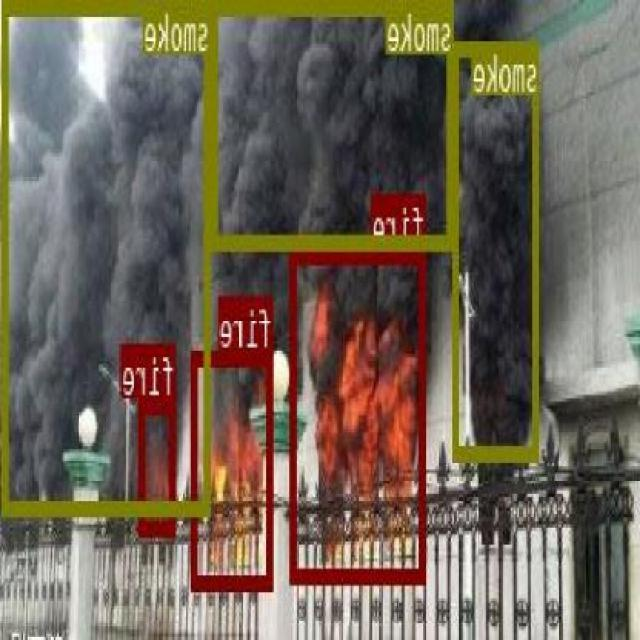Fire: (290, 246, 428, 580), (192, 348, 274, 588), (140, 397, 178, 532)
Smoke: (4, 0, 212, 514), (214, 0, 456, 245), (454, 38, 540, 458)
